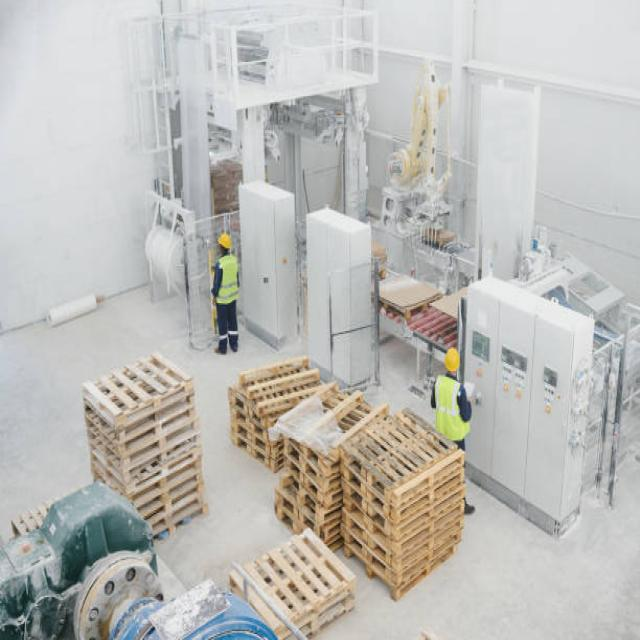Wooden-Pallets: (242, 525, 356, 625), (341, 402, 466, 491), (337, 479, 472, 539), (337, 505, 466, 563), (82, 352, 190, 420), (341, 449, 465, 508), (124, 429, 202, 489), (130, 449, 206, 508), (118, 399, 198, 454), (221, 384, 272, 436), (226, 411, 273, 458)
